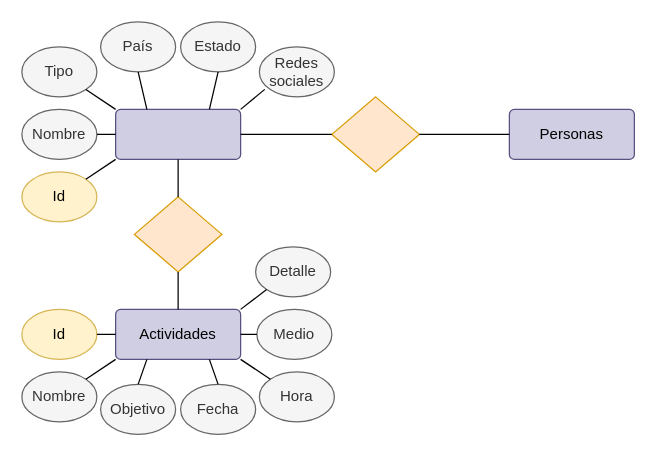
The diagram is 656 pixels wide and 456 high, and some of its shapes have lost their labels. Each missing label, with the box of its shape:
Comunidad: (114, 108, 241, 159)
Realizan: (133, 196, 222, 272)
Tienen: (331, 96, 419, 172)
